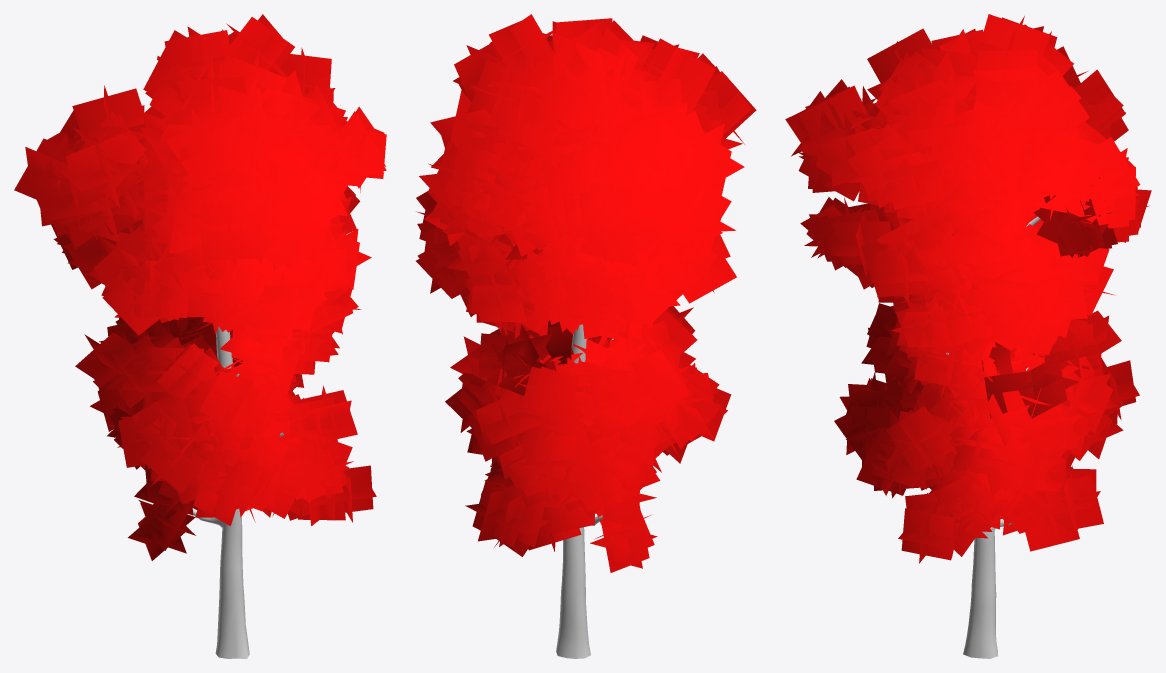
File: SM_TreeTower_02.fbx
3 views of the same model, side by side, from view 1: azimuth 30°, elevation 25°; view 2: azimuth 150°, elevation 25°; view 3: azimuth 270°, elevation 25° (orthographic). The views are drawn at different scales.
Parts seen in each view (by area): view 1: SM_TreeTower_02_LOD0; view 2: SM_TreeTower_02_LOD0; view 3: SM_TreeTower_02_LOD0.
Part boxes in pixels (box(x1,y1,x2,y2)): SM_TreeTower_02_LOD0: box(14, 14, 386, 658); SM_TreeTower_02_LOD0: box(416, 14, 756, 658); SM_TreeTower_02_LOD0: box(785, 14, 1151, 658).
Size of what is drawn, in the model's own units: 8.35 by 15.68 by 8.31.
